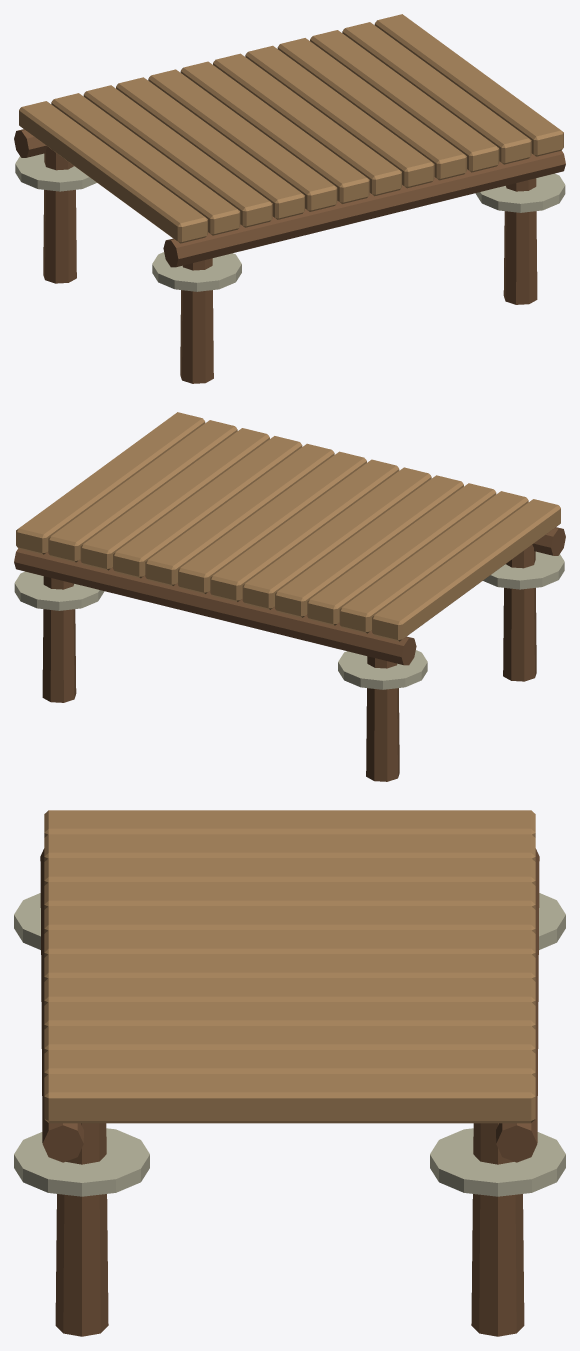
3 renders of one model, top to bottom at view 1: azimuth 30°, elevation 25°; view 2: azimuth 150°, elevation 25°; view 3: azimuth 270°, elevation 25°, orthographic. The views are drawn at different scales.
Parts seen in each view (by area): view 1: WW-108 Raised woodland dry-store platform batched; view 2: WW-108 Raised woodland dry-store platform batched; view 3: WW-108 Raised woodland dry-store platform batched.
Part boxes in pixels (x1,y1,x2,y2): WW-108 Raised woodland dry-store platform batched: (14, 14, 565, 383); WW-108 Raised woodland dry-store platform batched: (14, 412, 565, 781); WW-108 Raised woodland dry-store platform batched: (14, 810, 565, 1336).
Size of the model in its own units: 1.86 by 0.745 by 1.46.
